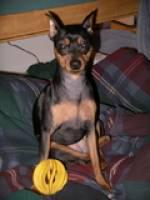dog-miniature_pinscher: (43, 8, 95, 77)
